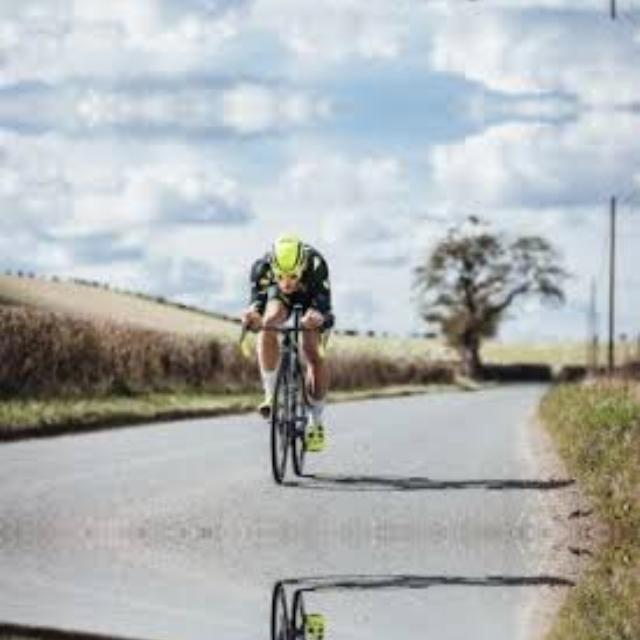obstacle: (238, 318, 318, 492), (238, 573, 317, 640)
